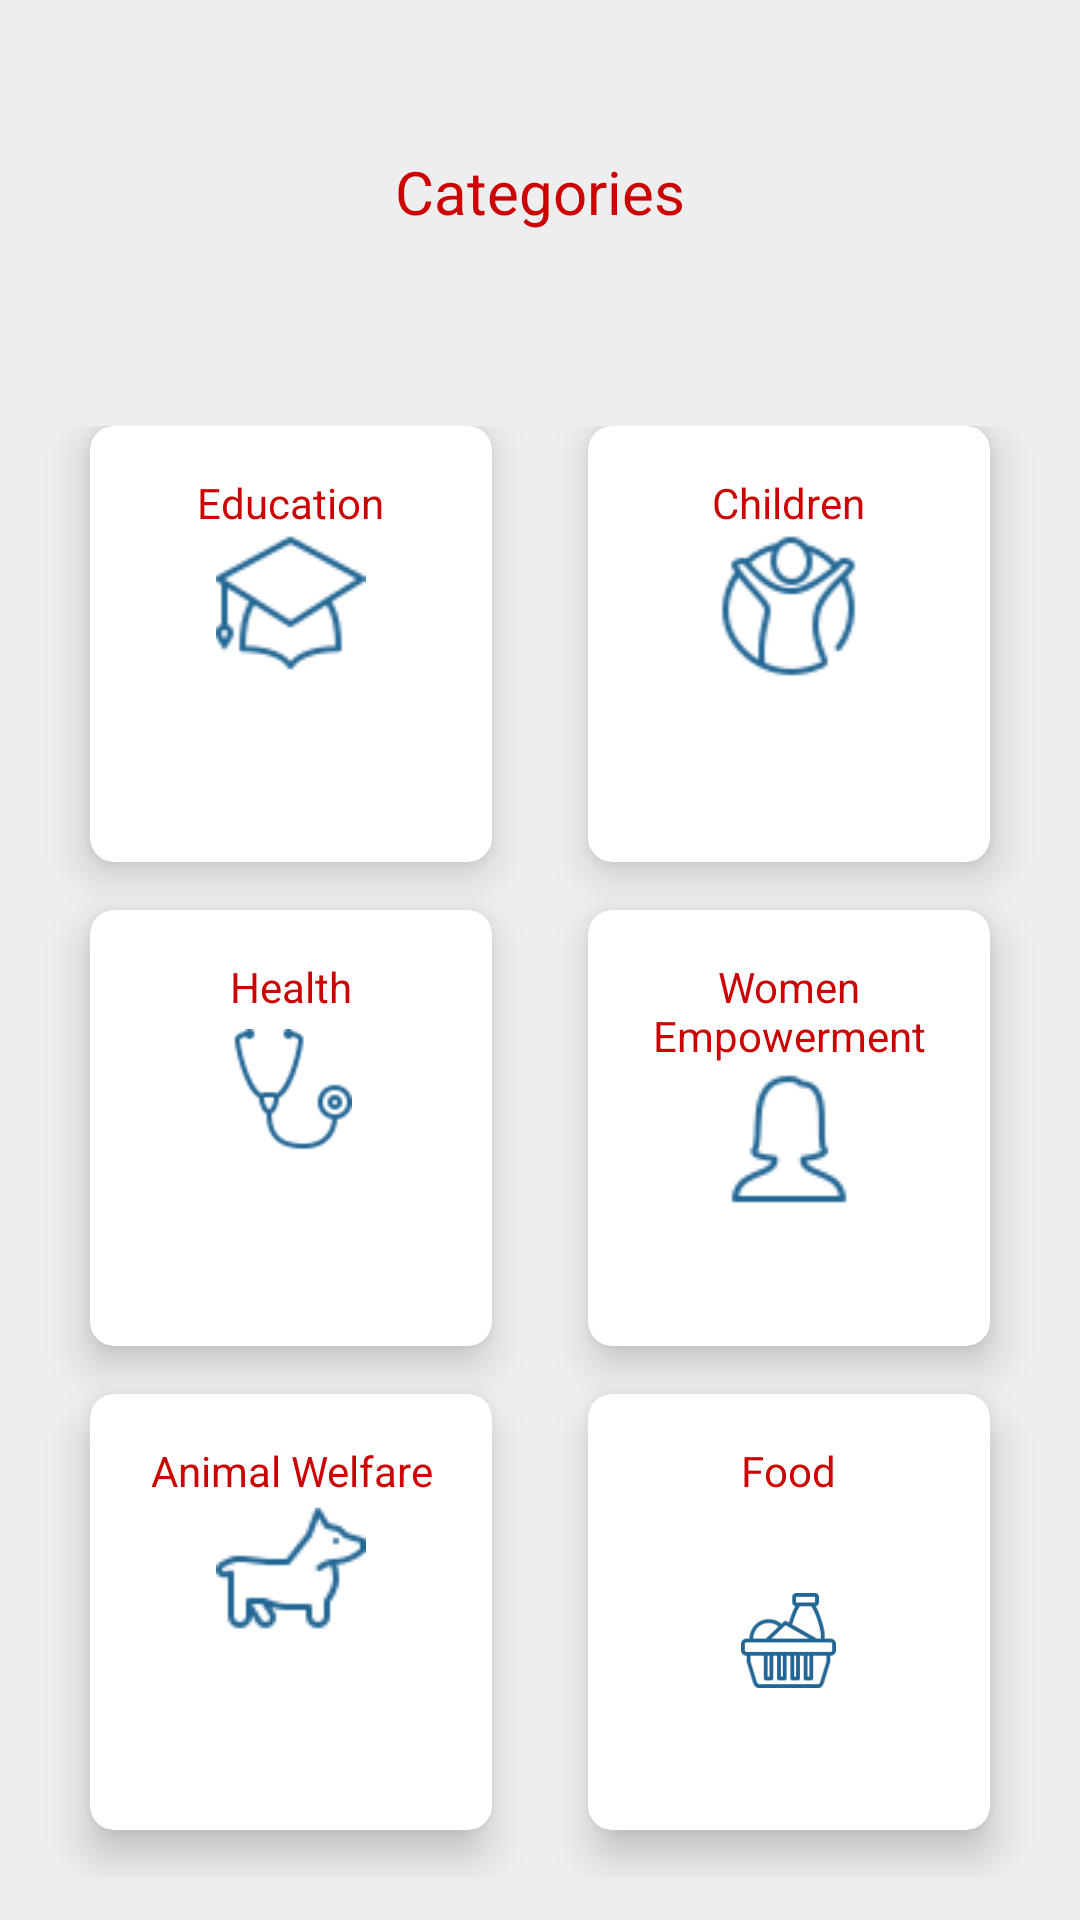

Where to tap for icons on this 1080px×1920px app screen, as (x,y):
femalecat: (789,1139)
